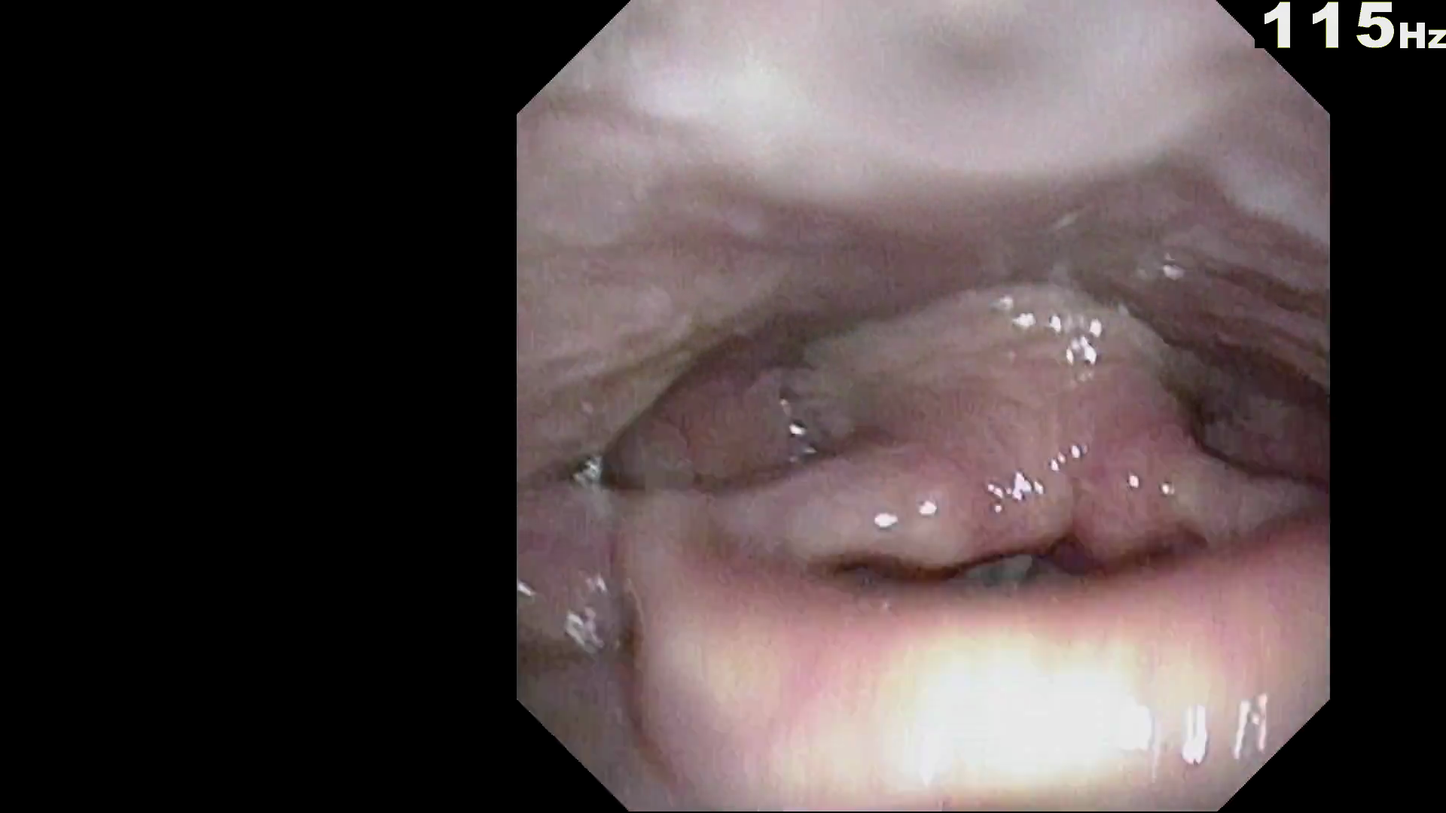epiglottis: (722, 529, 1271, 696)
